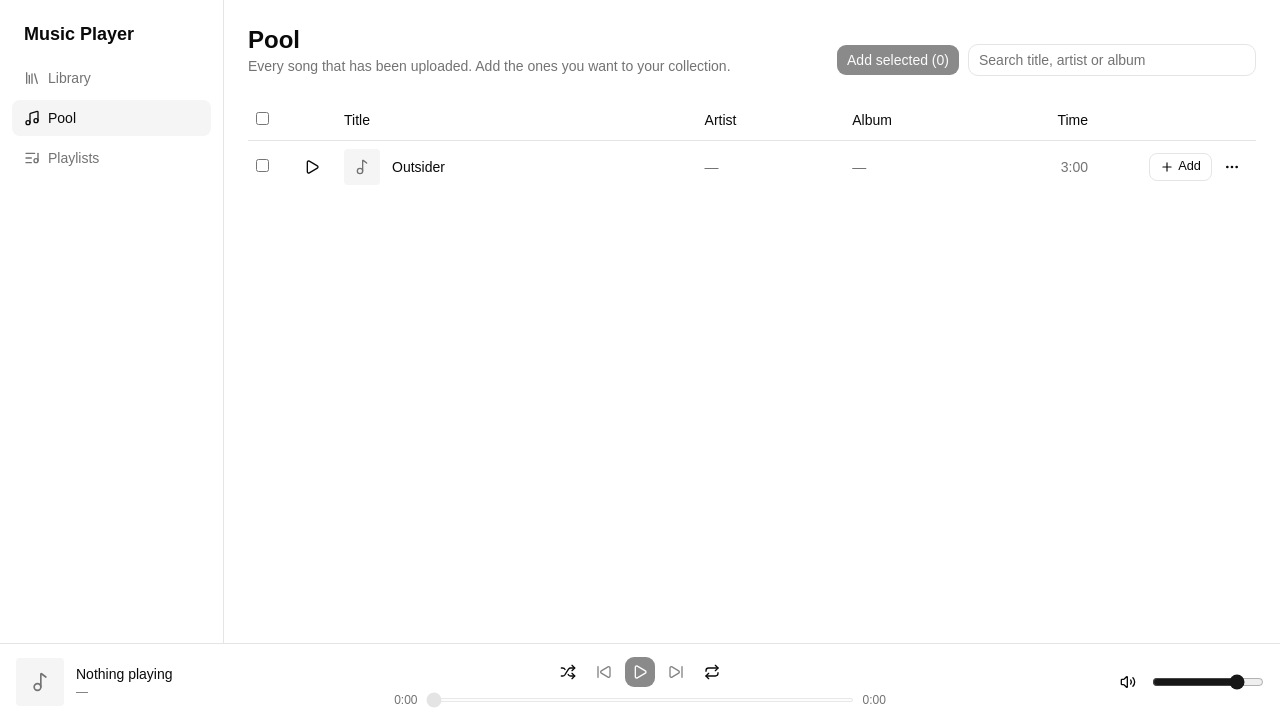
Pool › F-LB-09 adding updates immediately and persists
Click the button with aria-label "Add Outsider to collection". click: {"x": 1181, "y": 166}
box: [1149,152,1212,180]
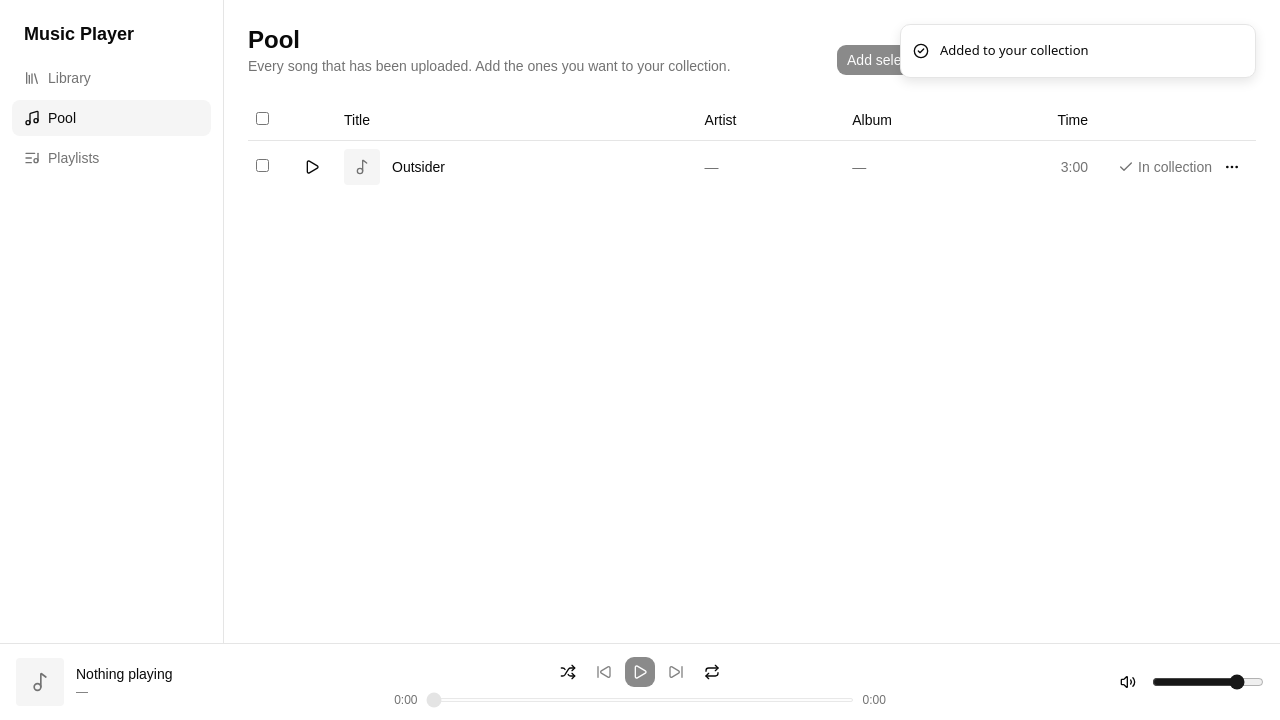
Result: the text "In collection" is shown at [1118,156,1212,176]
Result: the text "Added to your collection" is shown at [940,41,1089,60]
